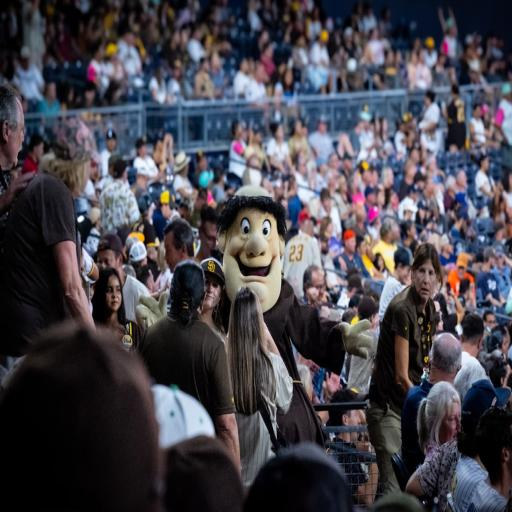face: (445, 404, 464, 444), (415, 262, 436, 298), (106, 278, 124, 314), (203, 276, 220, 306), (314, 276, 326, 304)
